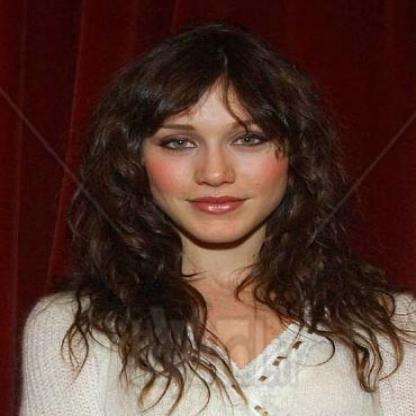long-hair: (48, 245, 399, 340)
